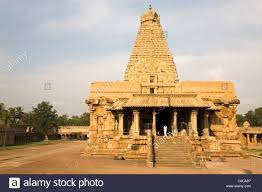Temple: (84, 3, 242, 162)
